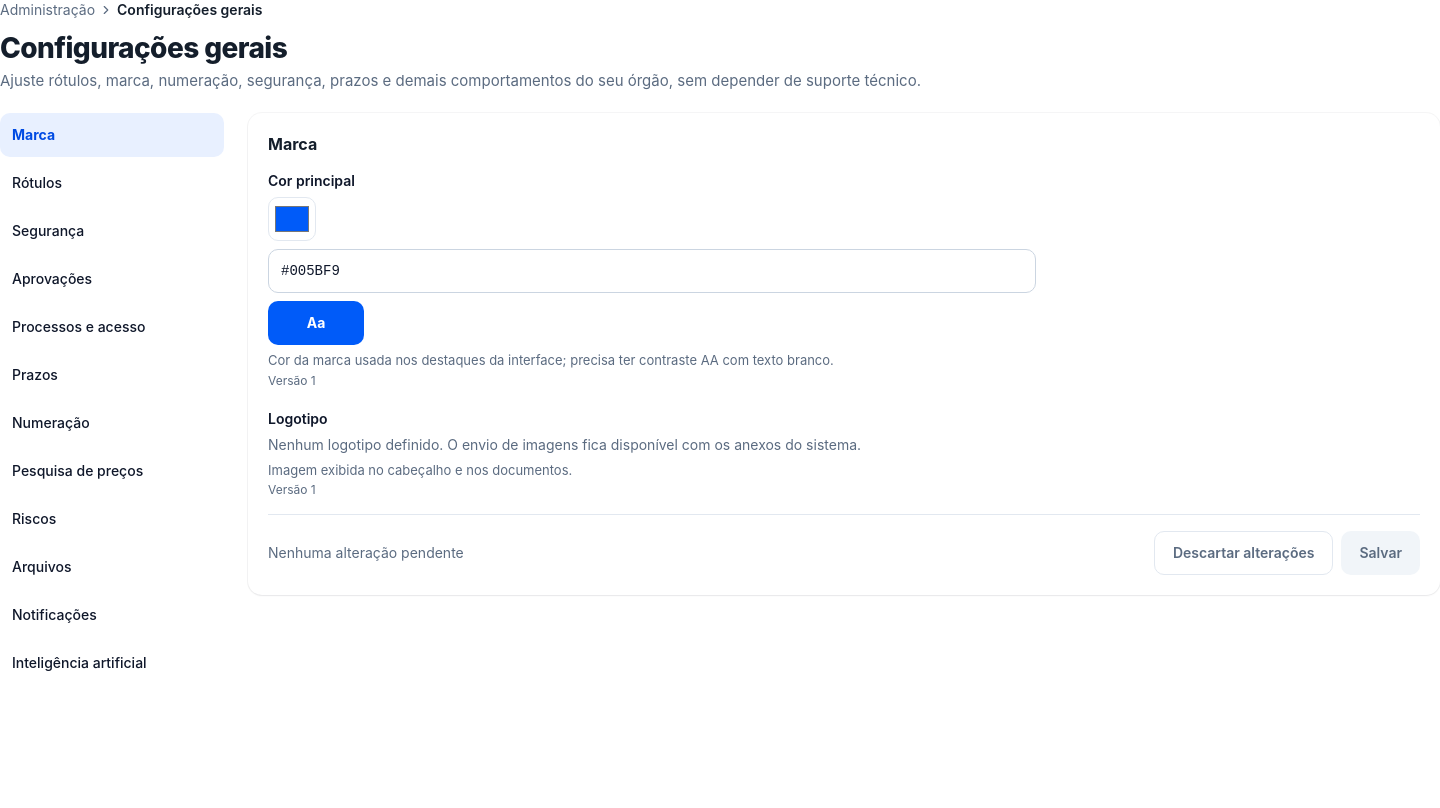
SCR-041 · seção "Inteligência artificial" (US-116) › [Validação] 422 AI_TERMS_NOT_ACCEPTED reabre o diálogo com a mensagem
Step 1. Click the button "Inteligência artificial" → (112, 663), box [0,641,224,685]
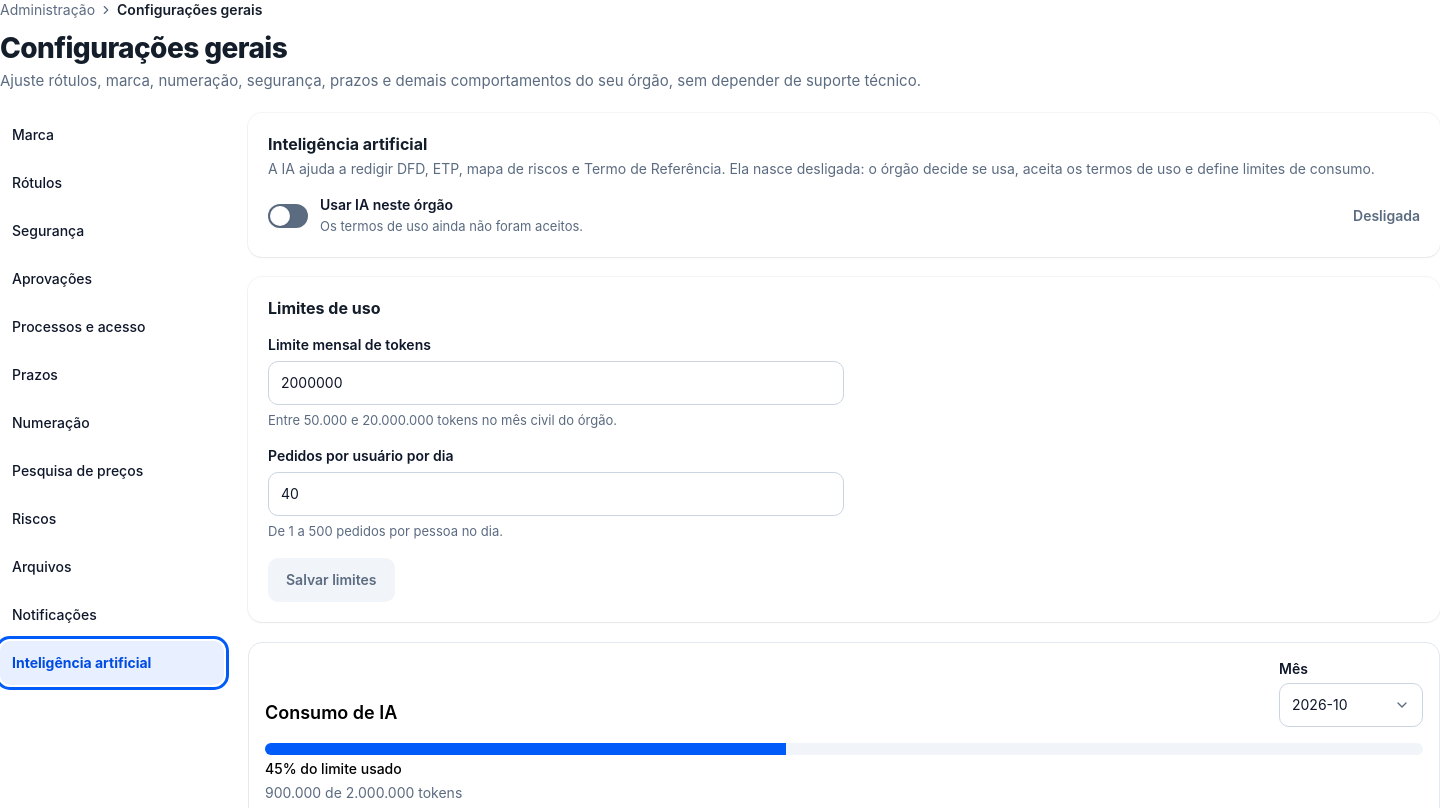
Step 2. Click the switch named "Usar IA neste órgão" → (288, 216), box [268,204,308,228]
(page scrolled)
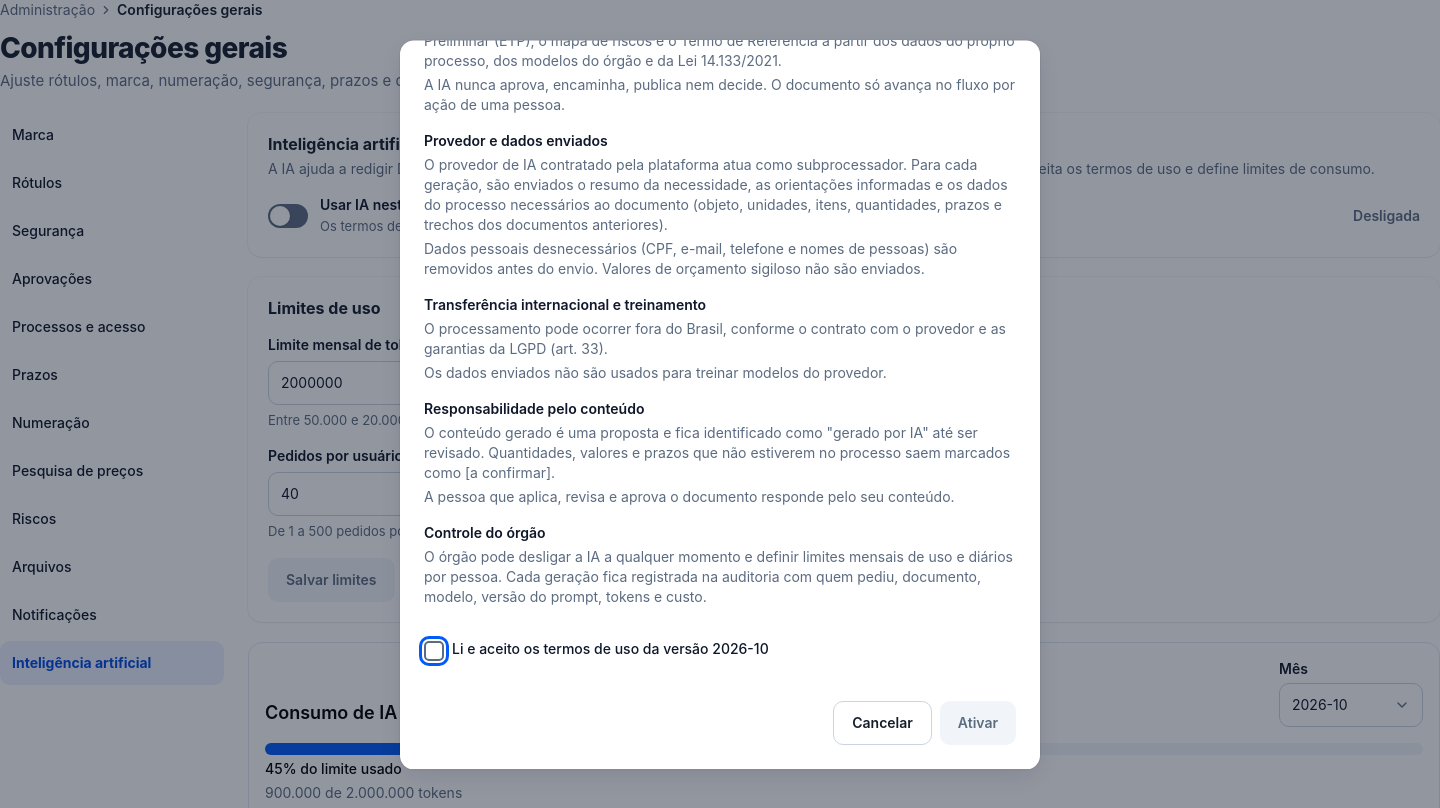
Step 3. Click the checkbox → (434, 652), box [424,642,444,662]
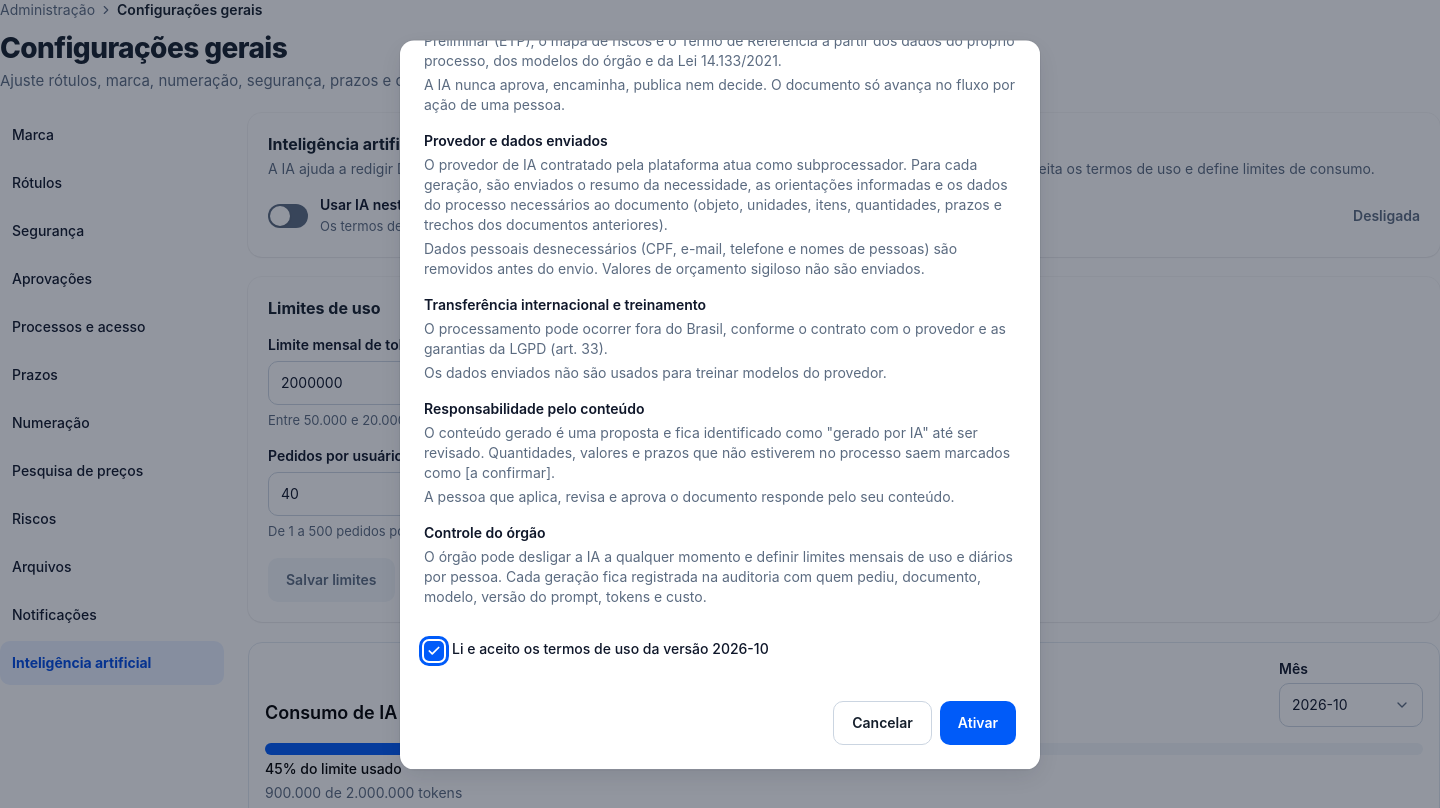
Step 4. Click the button "Ativar" → (978, 724), box [940,702,1016,746]
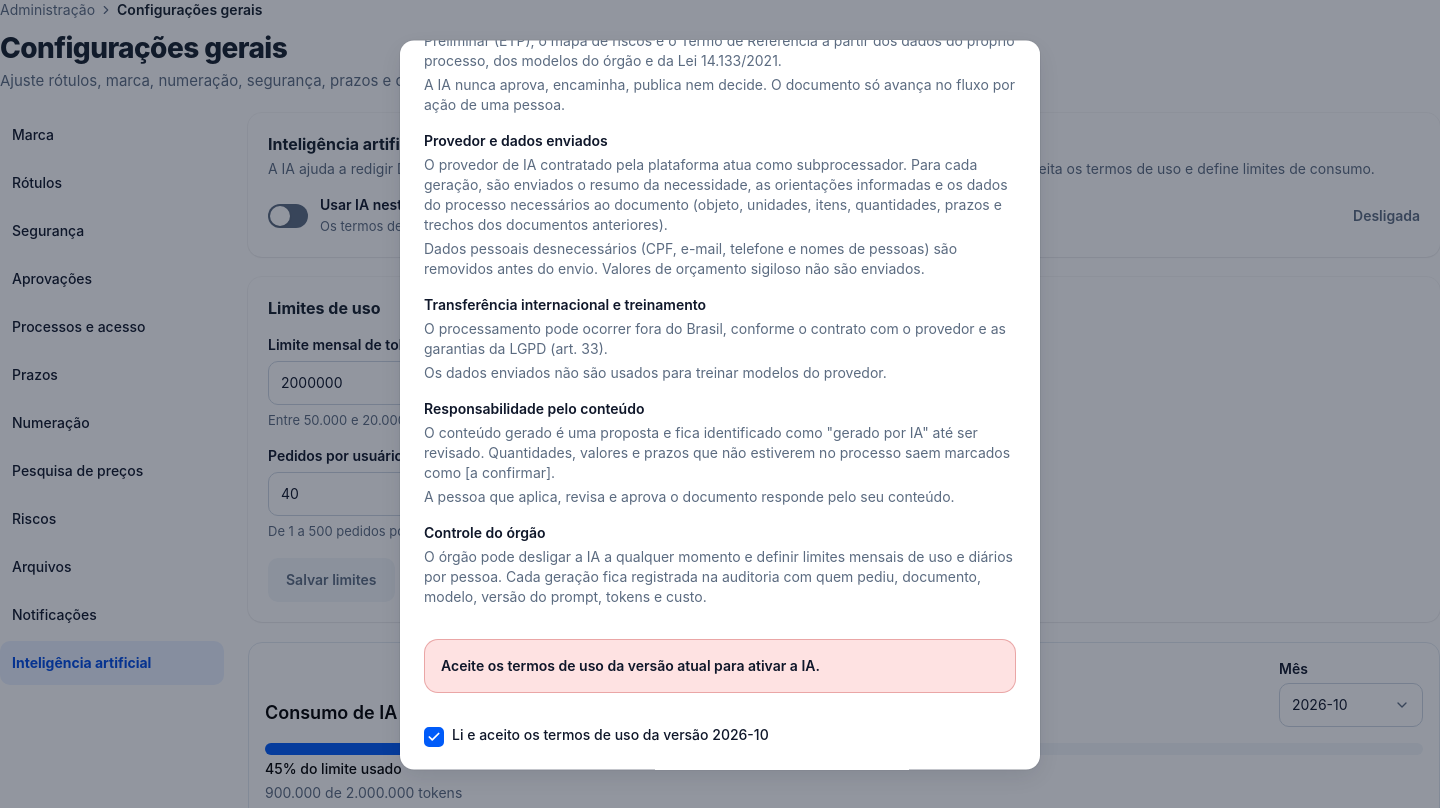
Expected: the text "Aceite os termos de uso da versão atual para ativar a IA." is shown, [441,658,820,674]
